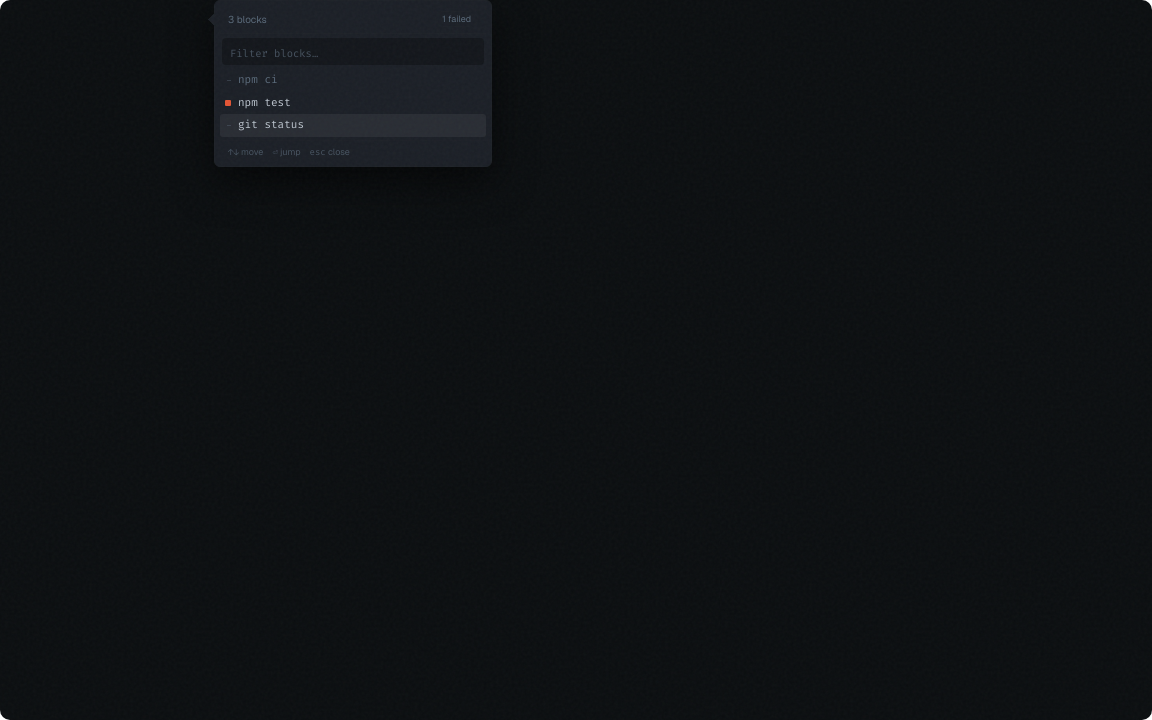
Test case: OutlineFlyout › reports when a filter matches nothing
Type "zzz" into the field with placeholder "Filter blocks…".
click(353, 54); type("zzz")  # box [230, 47, 476, 60]
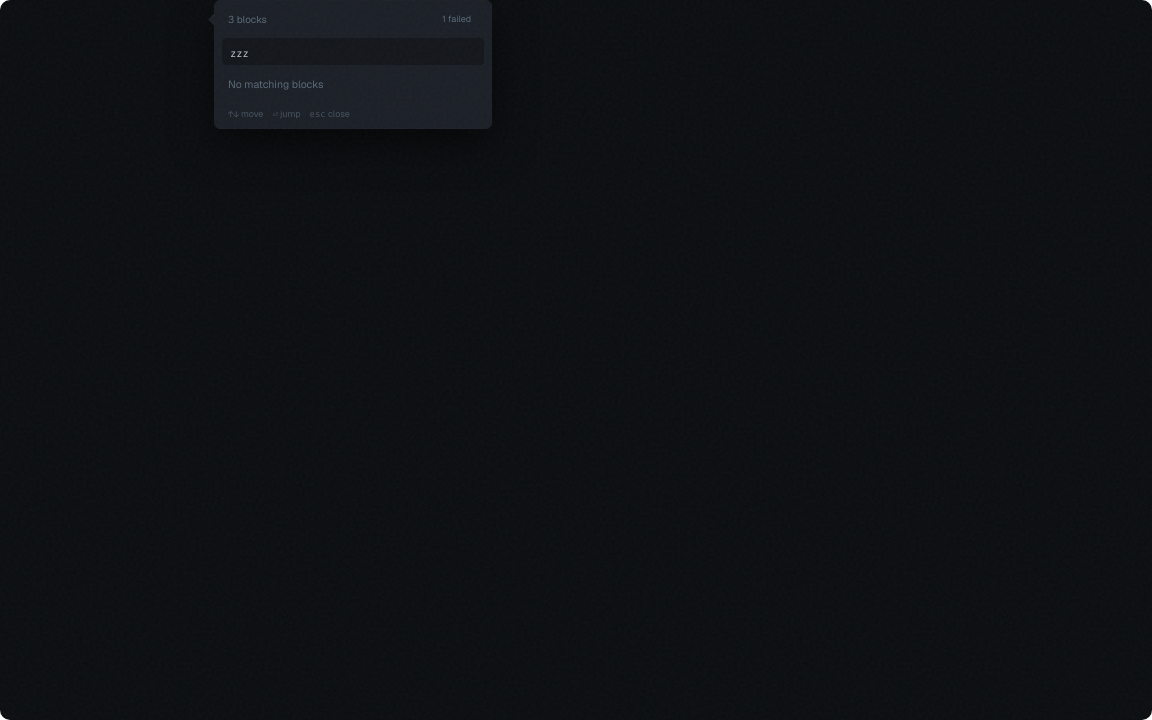
Expected: the text "npm ci" is not shown
Result: the text "No matching blocks" is shown at [228, 77, 323, 91]
